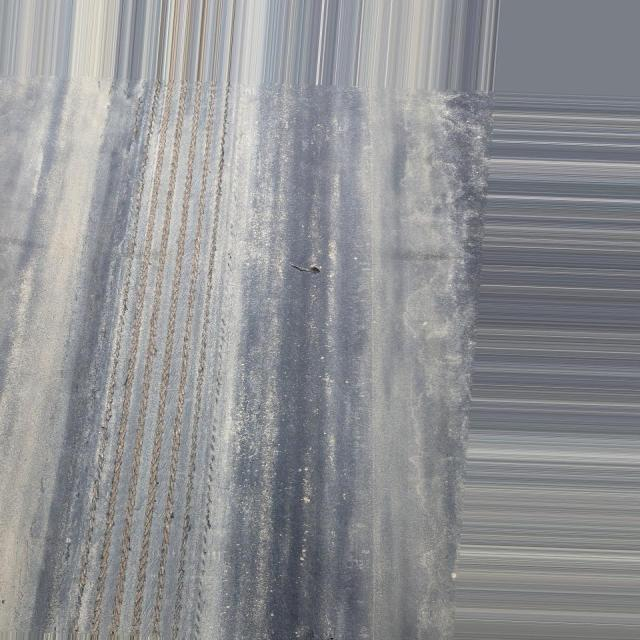impact damage: (66, 0, 253, 639)
